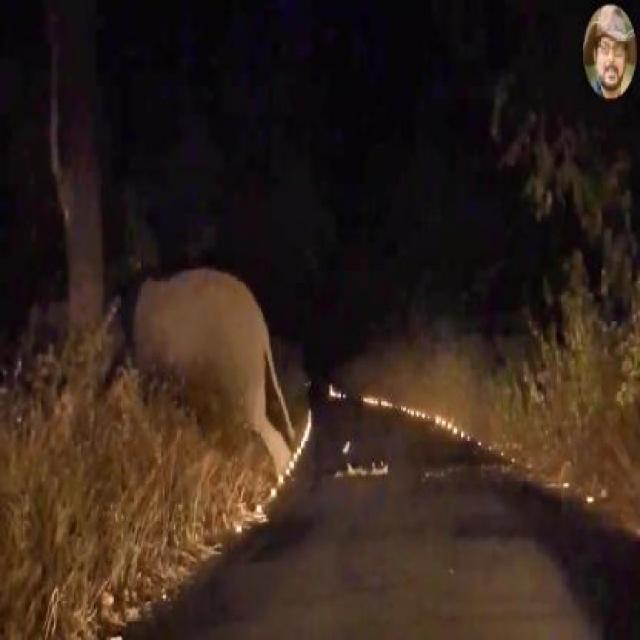Elephant: (125, 233, 312, 549)
